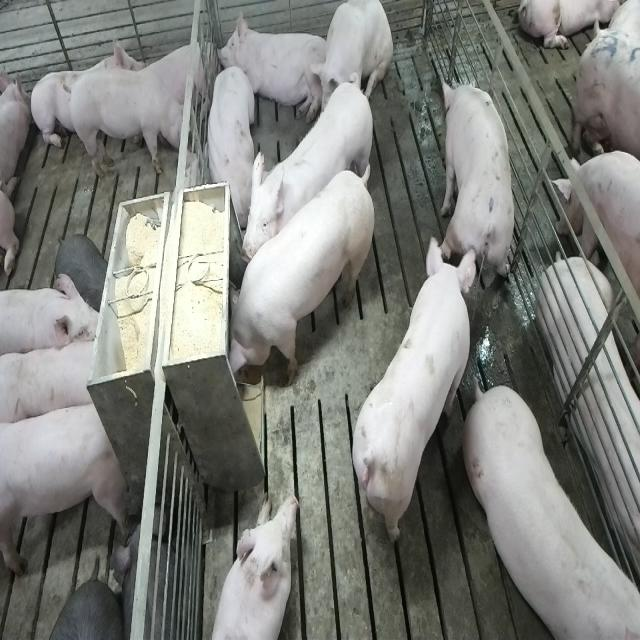Feeding: (218, 166, 370, 388)
Sitting: (308, 2, 394, 132), (204, 64, 258, 218)
Standing: (467, 382, 640, 640), (346, 240, 472, 554), (241, 78, 379, 274), (1, 396, 131, 580), (437, 74, 518, 302), (65, 66, 194, 178), (3, 331, 105, 430), (0, 274, 104, 366)
Sternal_lying: (31, 30, 146, 158), (206, 490, 296, 640), (217, 11, 325, 128), (141, 35, 213, 119)
